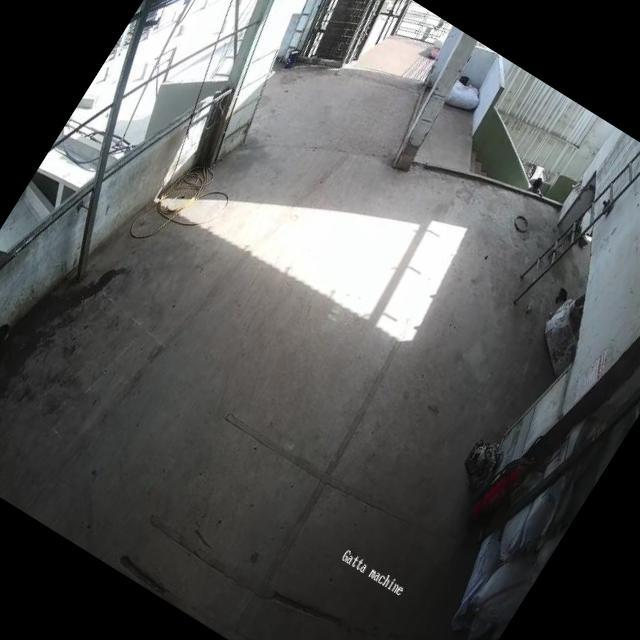person: (523, 168, 549, 200)
